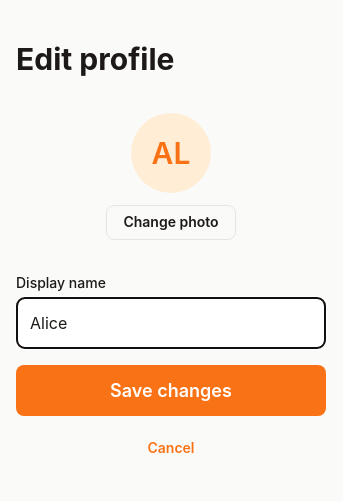
EditProfileScreen › shows error for empty display name
Clear the field with test id "edit-display-name-input" at (171, 323), box [16,297,326,349]
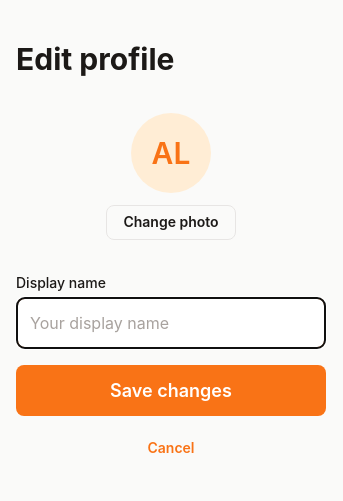
Click the button "Save changes" at (171, 390), box [16,365,326,416]
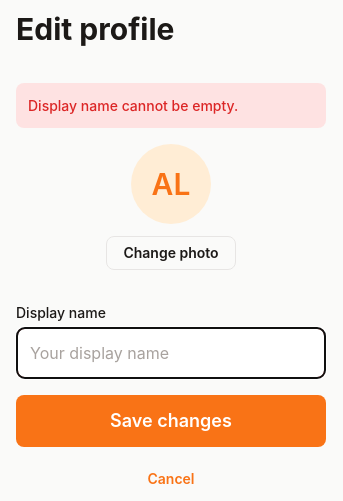
Now the text "Display name cannot be empty." is shown, box [28,97,238,114]
